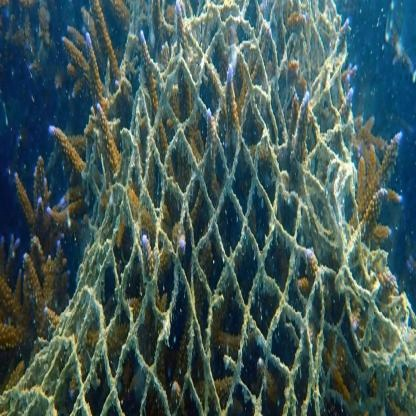net: (22, 13, 399, 416)
